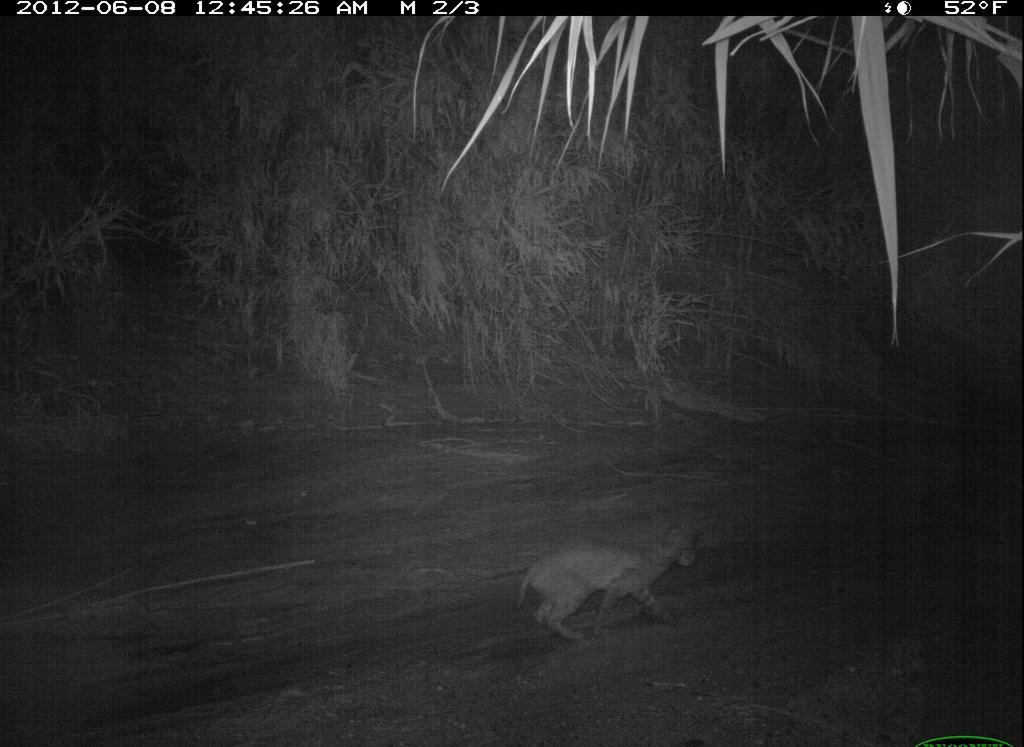bobcat: (507, 514, 708, 652)
